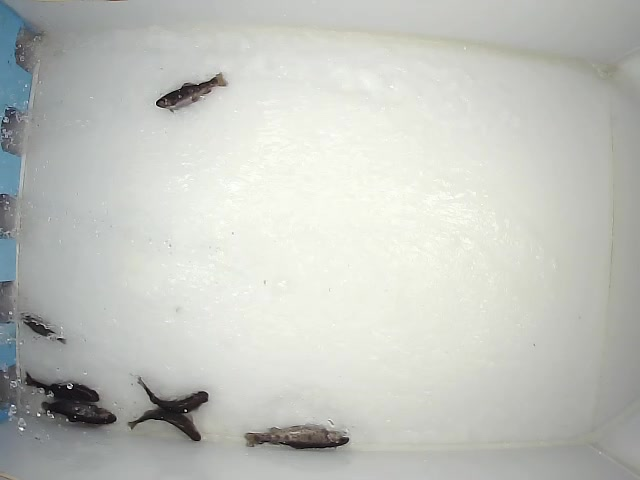fish: (154, 72, 229, 115), (242, 422, 352, 451), (136, 374, 206, 416), (21, 369, 101, 402), (38, 399, 118, 429), (127, 411, 206, 441), (22, 312, 66, 346)
